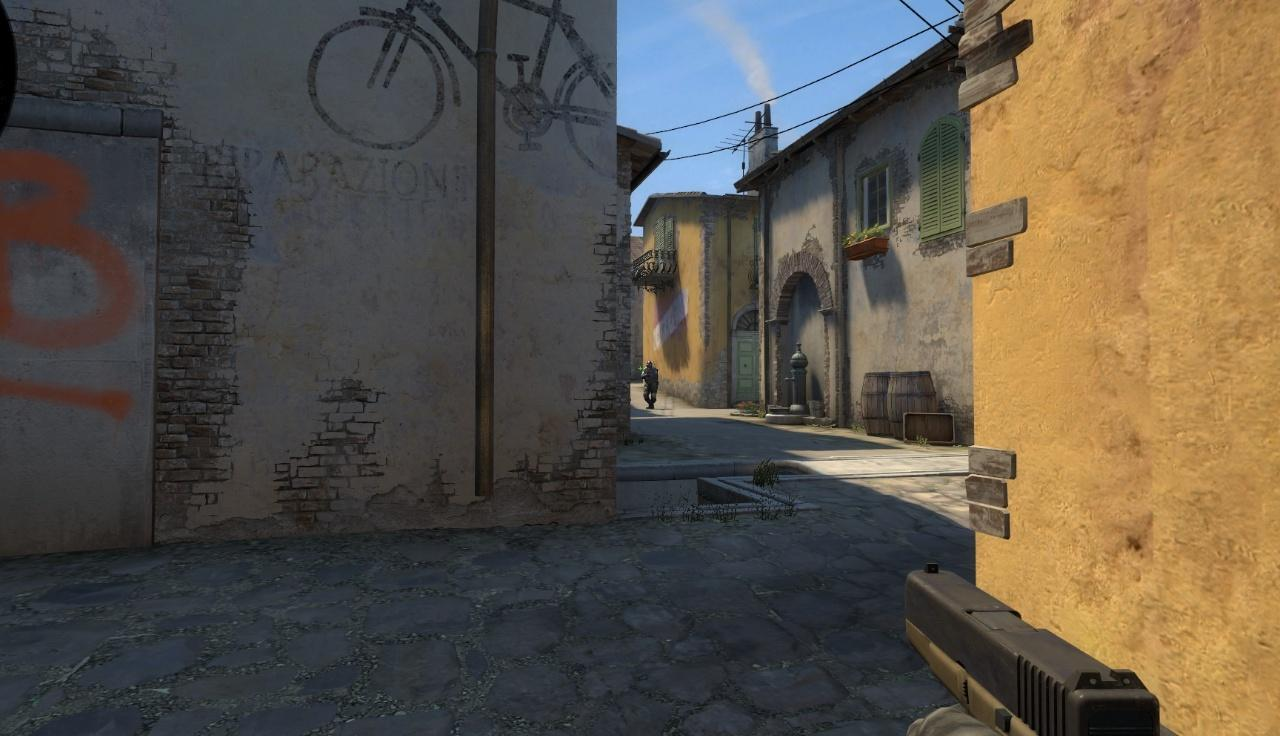ct: (642, 360, 657, 409)
cthead: (647, 360, 652, 369)
pistol: (905, 562, 1166, 736)
